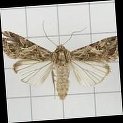Spodoptera litura: (4, 19, 119, 101)
